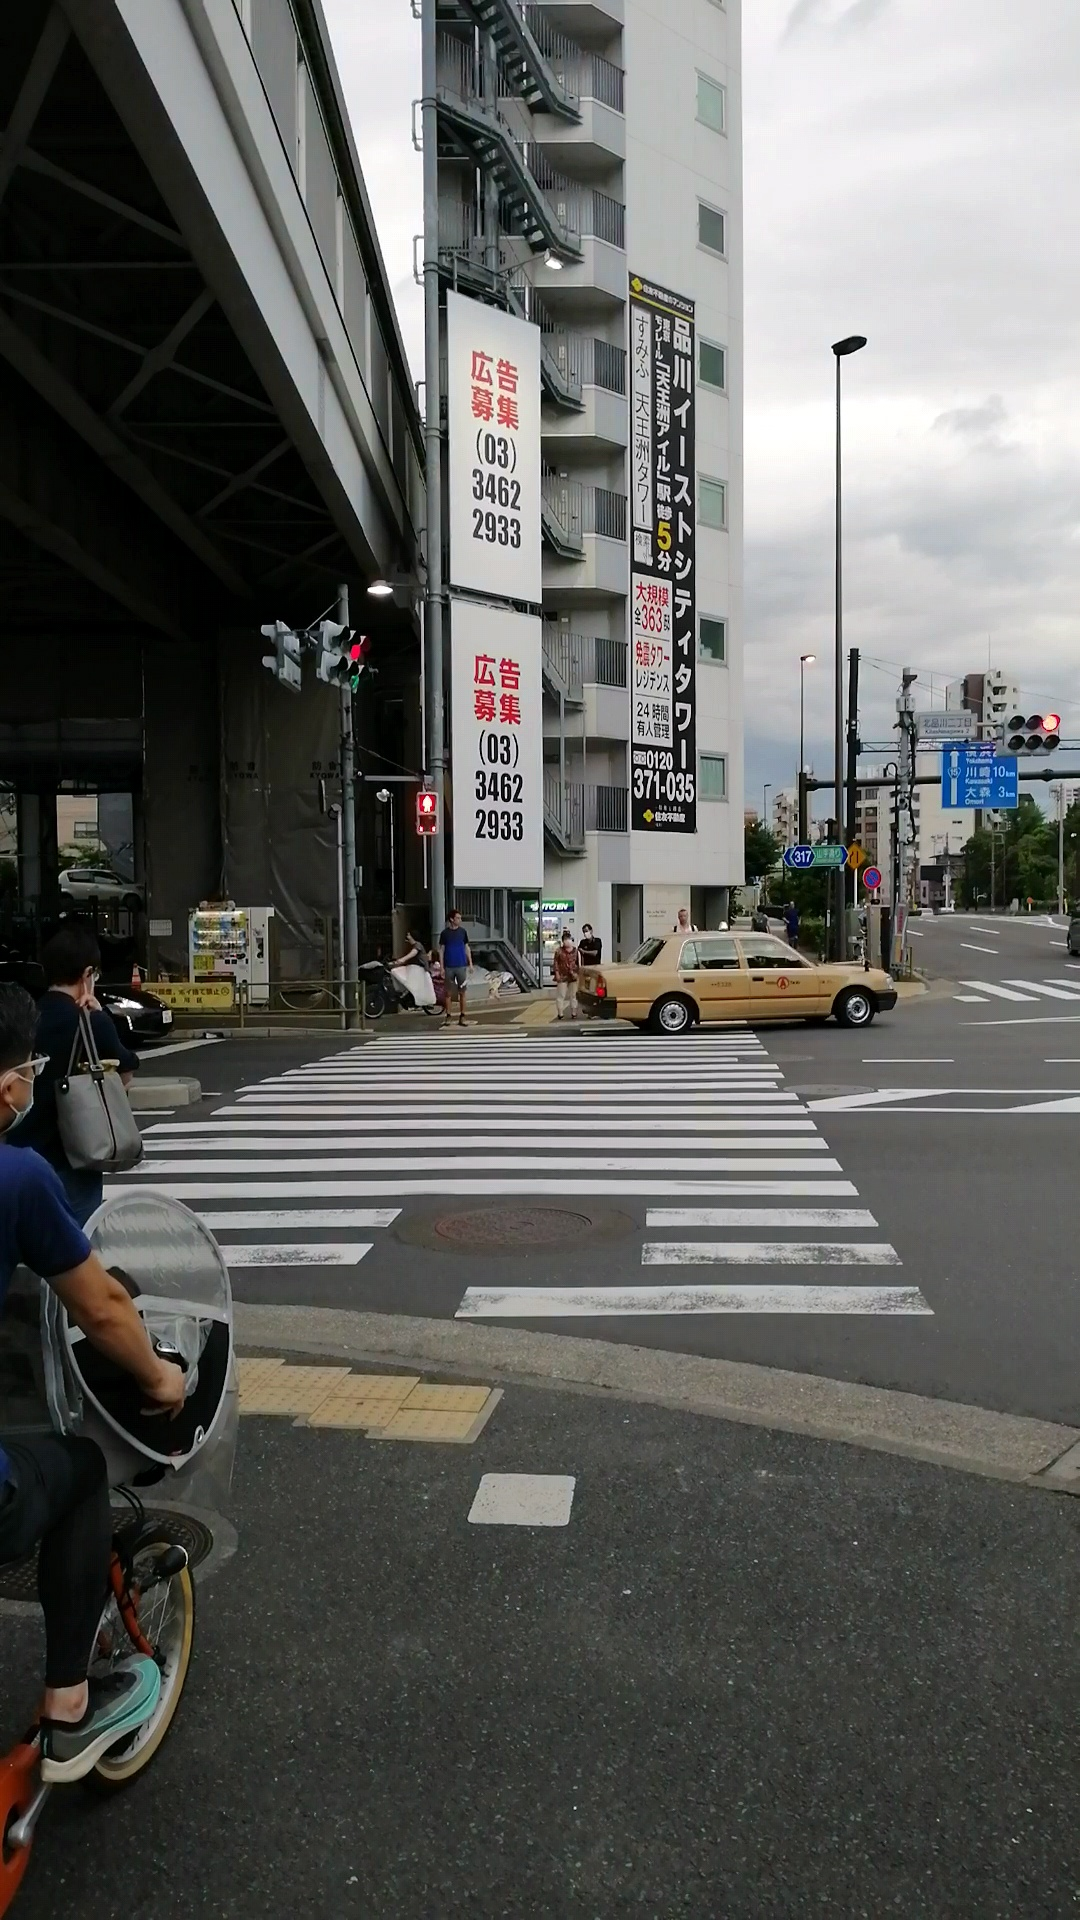red: (415, 790, 438, 836)
